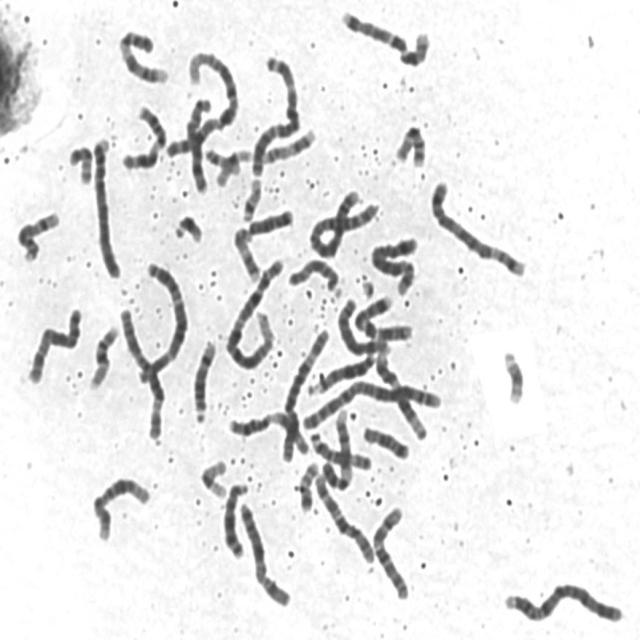A1: (161, 46, 241, 162), (221, 251, 286, 373)
A2: (297, 373, 442, 434), (304, 189, 380, 260)
A3: (133, 255, 191, 385), (247, 50, 302, 177)
B4: (498, 578, 624, 626), (88, 131, 123, 281)
B5: (426, 175, 528, 279), (367, 231, 419, 298)
C10: (309, 466, 376, 566), (367, 500, 412, 603)
C11: (224, 406, 312, 458), (116, 99, 168, 173)
C12: (371, 346, 430, 442), (88, 471, 153, 544)
C6: (276, 322, 332, 464), (114, 302, 167, 443)
C7: (337, 4, 433, 70), (350, 293, 414, 343)
C8: (333, 292, 393, 358), (184, 91, 213, 197)
C9: (114, 24, 171, 86), (318, 402, 354, 492)
D13: (304, 348, 378, 398), (219, 477, 250, 561)
D14: (188, 334, 219, 426), (13, 206, 62, 264)
D15: (306, 427, 375, 472), (284, 253, 344, 299)
E16: (85, 319, 122, 391), (391, 120, 428, 170)
E17: (256, 122, 318, 168), (229, 222, 262, 284)
E18: (359, 420, 411, 462), (243, 204, 296, 238)
F19: (213, 145, 254, 187), (195, 454, 230, 501)
F20: (294, 456, 320, 515), (65, 141, 94, 186)
G21: (498, 344, 527, 406), (170, 210, 205, 246)
G22: (201, 143, 244, 177), (238, 174, 264, 224)
X: (234, 498, 294, 610), (24, 301, 86, 387)
